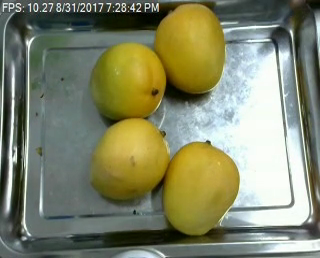Mango: (166, 141, 238, 235), (155, 1, 226, 92), (91, 117, 167, 198), (89, 41, 164, 121)
